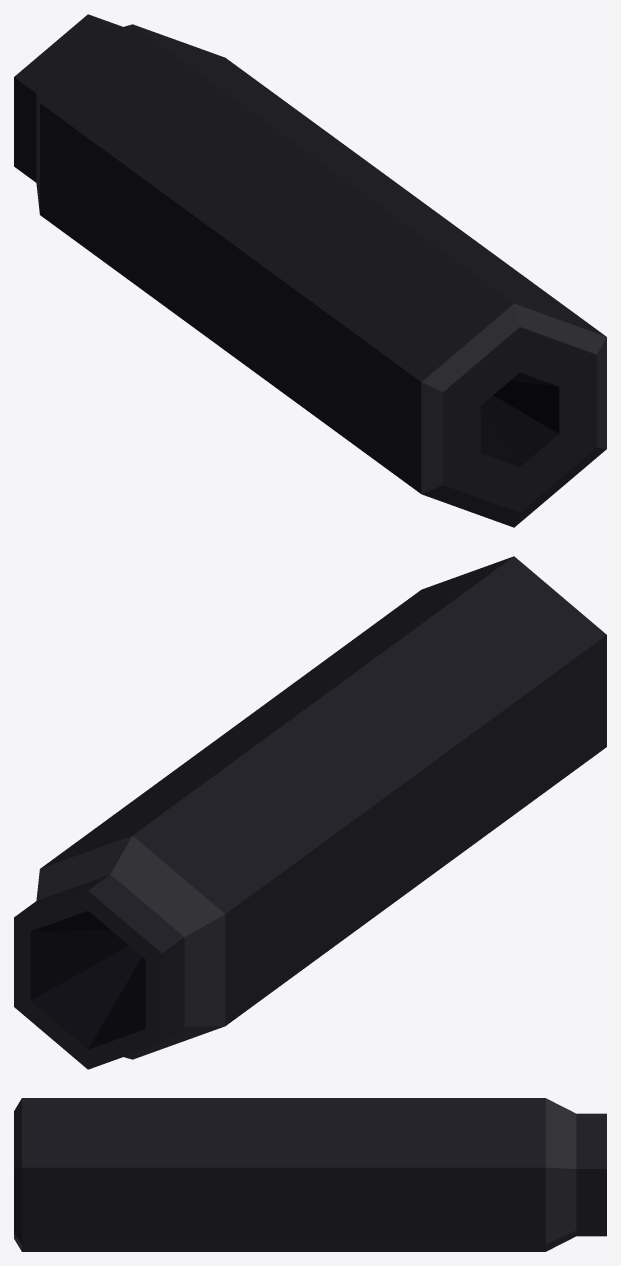
The model's file is MW1_MuzzleDevice_12ga_01.fbx.
3 views of the same model, one above another, from view 1: azimuth 30°, elevation 25°; view 2: azimuth 150°, elevation 25°; view 3: azimuth 270°, elevation 25° (orthographic). The views are drawn at different scales.
Parts seen in each view (by area): view 1: MuzzleDevice_12ga_01; view 2: MuzzleDevice_12ga_01; view 3: MuzzleDevice_12ga_01.
Boxes of the visible parts, x1,y1,x2,y2 form: MuzzleDevice_12ga_01: (14, 14, 606, 527); MuzzleDevice_12ga_01: (14, 556, 606, 1069); MuzzleDevice_12ga_01: (14, 1098, 606, 1251).
Bounding box in the file's own units: 3.44 × 3.97 × 13.87.
